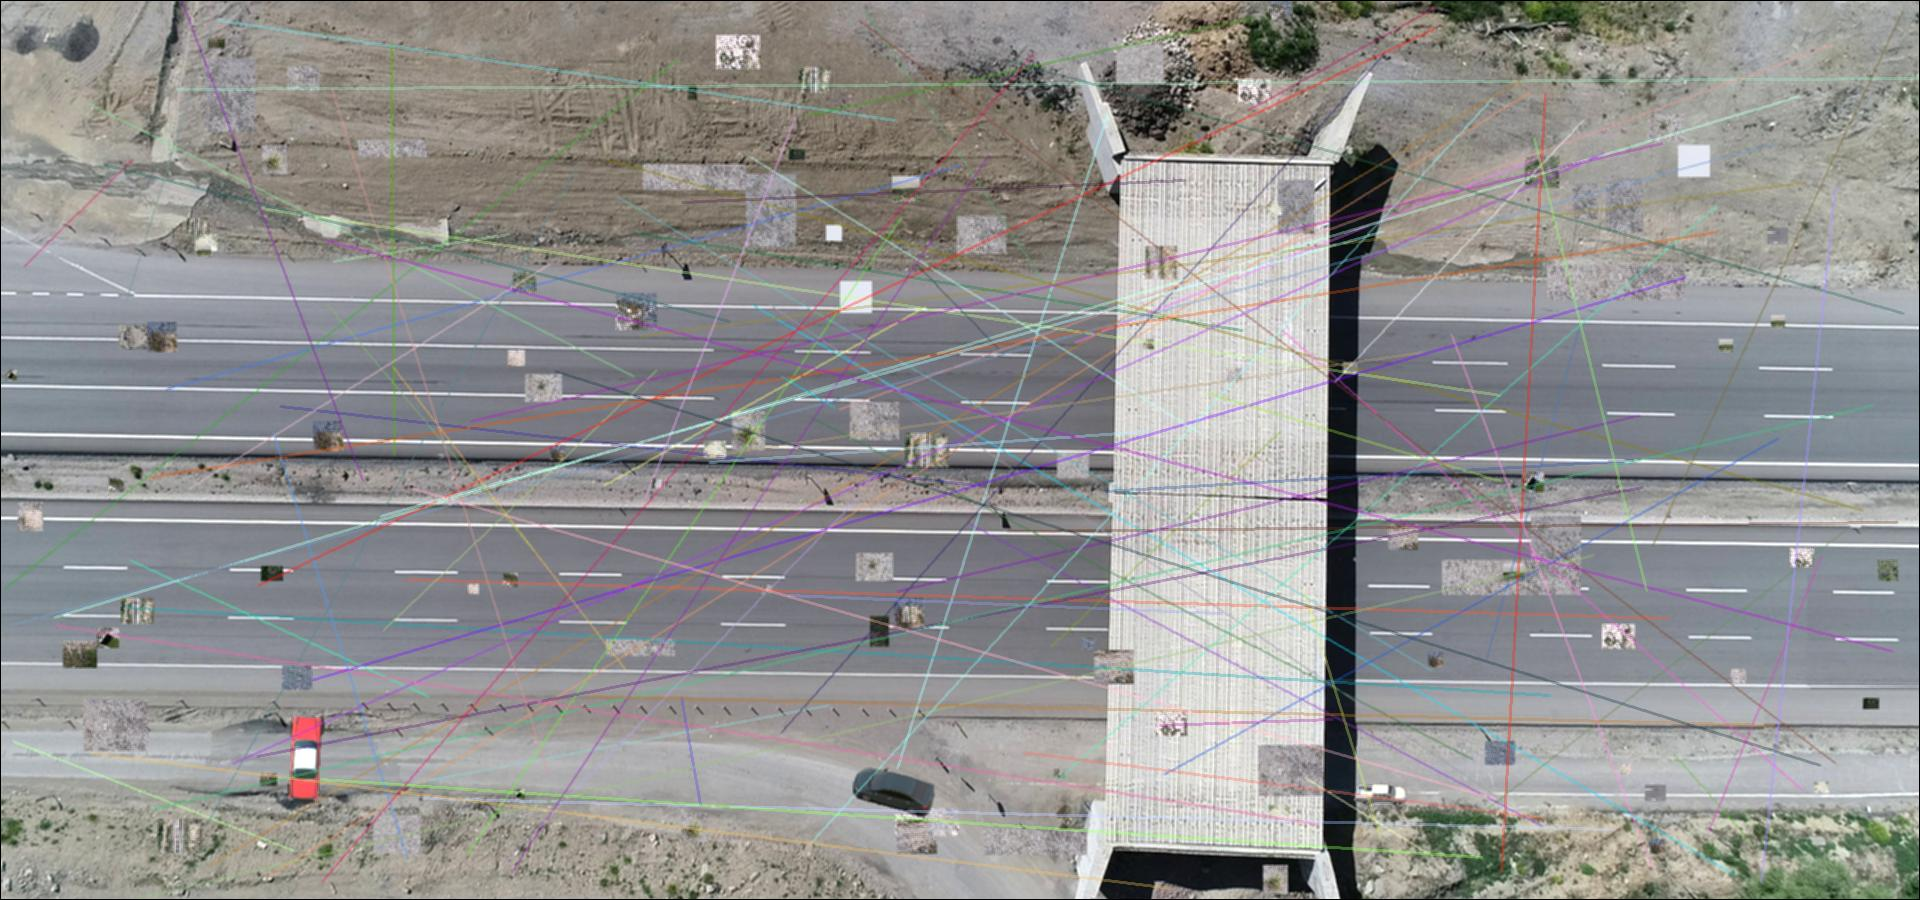arac: (852, 767, 938, 817), (287, 716, 324, 804), (1353, 782, 1408, 809)
